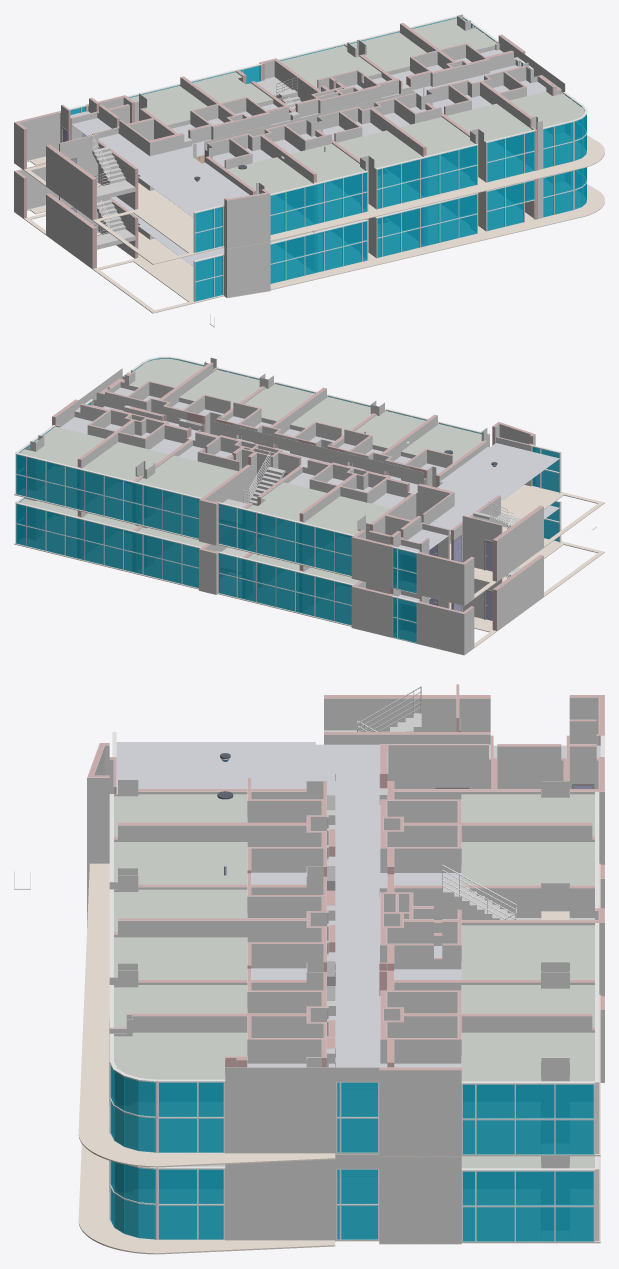
Rendered from 20260609_173819_MARRIOTT_DSC_ARC_R24_with_equipment_level09_level10_fixed.glb.
3 renders of one model, top to bottom at view 1: azimuth 30°, elevation 25°; view 2: azimuth 150°, elevation 25°; view 3: azimuth 270°, elevation 25°, orthographic. The views are drawn at different scales.
Parts seen in each view (by area): view 1: MARRIOTT_FIXED_192,192,192,100, MARRIOTT_FIXED_0,128,192,65, MARRIOTT_FIXED_174,182,169,100, MARRIOTT_FIXED_237,214,197,100, MARRIOTT_FIXED_191,192,208,100, MARRIOTT_FIXED_192,131,131,100, MARRIOTT_FIXED_247,247,247,100, MARRIOTT_FIXED_255,255,255,100; view 2: MARRIOTT_FIXED_192,192,192,100, MARRIOTT_FIXED_0,128,192,65, MARRIOTT_FIXED_174,182,169,100, MARRIOTT_FIXED_191,192,208,100, MARRIOTT_FIXED_192,131,131,100, MARRIOTT_FIXED_247,247,247,100, MARRIOTT_FIXED_237,214,197,100, MARRIOTT_FIXED_128,128,192,100, MARRIOTT_FIXED_255,255,255,100; view 3: MARRIOTT_FIXED_192,192,192,100, MARRIOTT_FIXED_174,182,169,100, MARRIOTT_FIXED_0,128,192,65, MARRIOTT_FIXED_191,192,208,100, MARRIOTT_FIXED_192,131,131,100, MARRIOTT_FIXED_237,214,197,100, MARRIOTT_FIXED_247,247,247,100, MARRIOTT_FIXED_255,255,255,100.
Part boxes in pixels (bbox=[...]): MARRIOTT_FIXED_192,192,192,100: bbox=[14, 14, 565, 297]; MARRIOTT_FIXED_0,128,192,65: bbox=[70, 17, 586, 301]; MARRIOTT_FIXED_174,182,169,100: bbox=[130, 18, 584, 242]; MARRIOTT_FIXED_237,214,197,100: bbox=[24, 135, 604, 313]; MARRIOTT_FIXED_191,192,208,100: bbox=[70, 49, 546, 266]; MARRIOTT_FIXED_192,131,131,100: bbox=[14, 23, 560, 268]; MARRIOTT_FIXED_247,247,247,100: bbox=[69, 14, 587, 301]; MARRIOTT_FIXED_255,255,255,100: bbox=[92, 77, 297, 327]; MARRIOTT_FIXED_192,192,192,100: bbox=[24, 357, 543, 655]; MARRIOTT_FIXED_0,128,192,65: bbox=[16, 358, 559, 642]; MARRIOTT_FIXED_174,182,169,100: bbox=[19, 358, 482, 584]; MARRIOTT_FIXED_191,192,208,100: bbox=[60, 387, 559, 601]; MARRIOTT_FIXED_192,131,131,100: bbox=[52, 362, 543, 630]; MARRIOTT_FIXED_247,247,247,100: bbox=[15, 356, 561, 643]; MARRIOTT_FIXED_237,214,197,100: bbox=[14, 485, 604, 655]; MARRIOTT_FIXED_128,128,192,100: bbox=[260, 474, 492, 620]; MARRIOTT_FIXED_255,255,255,100: bbox=[243, 451, 596, 579]; MARRIOTT_FIXED_192,192,192,100: bbox=[87, 684, 604, 1244]; MARRIOTT_FIXED_174,182,169,100: bbox=[114, 794, 594, 1168]; MARRIOTT_FIXED_0,128,192,65: bbox=[110, 1065, 593, 1241]; MARRIOTT_FIXED_191,192,208,100: bbox=[116, 742, 600, 1067]; MARRIOTT_FIXED_192,131,131,100: bbox=[87, 684, 604, 1070]; MARRIOTT_FIXED_237,214,197,100: bbox=[78, 863, 600, 1254]; MARRIOTT_FIXED_247,247,247,100: bbox=[109, 732, 604, 1243]; MARRIOTT_FIXED_255,255,255,100: bbox=[14, 686, 516, 919].
Bounding box in the file's own units: 33.5 × 7.89 × 20.94.
